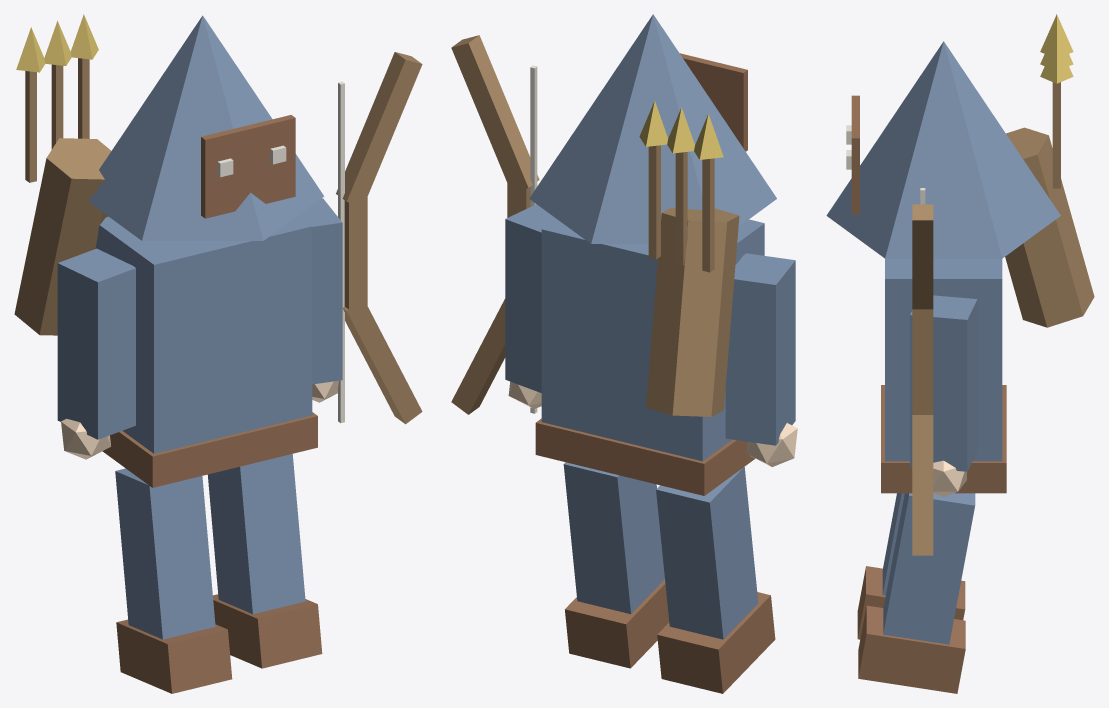
The model's file is npcpose_archer_walk_01.glb.
The picture shows the model from 3 angles, left to right: view 1: azimuth 30°, elevation 25°; view 2: azimuth 150°, elevation 25°; view 3: azimuth 270°, elevation 25°; orthographic projection. The views are drawn at different scales.
Parts seen in each view (by area): view 1: npcpose; view 2: npcpose; view 3: npcpose.
Part boxes in pixels (x1,y1,x2,y2): npcpose: (14, 14, 422, 693); npcpose: (451, 14, 797, 693); npcpose: (826, 14, 1094, 693).
Bounding box in the file's own units: 0.9089 × 1.63 × 0.64.
